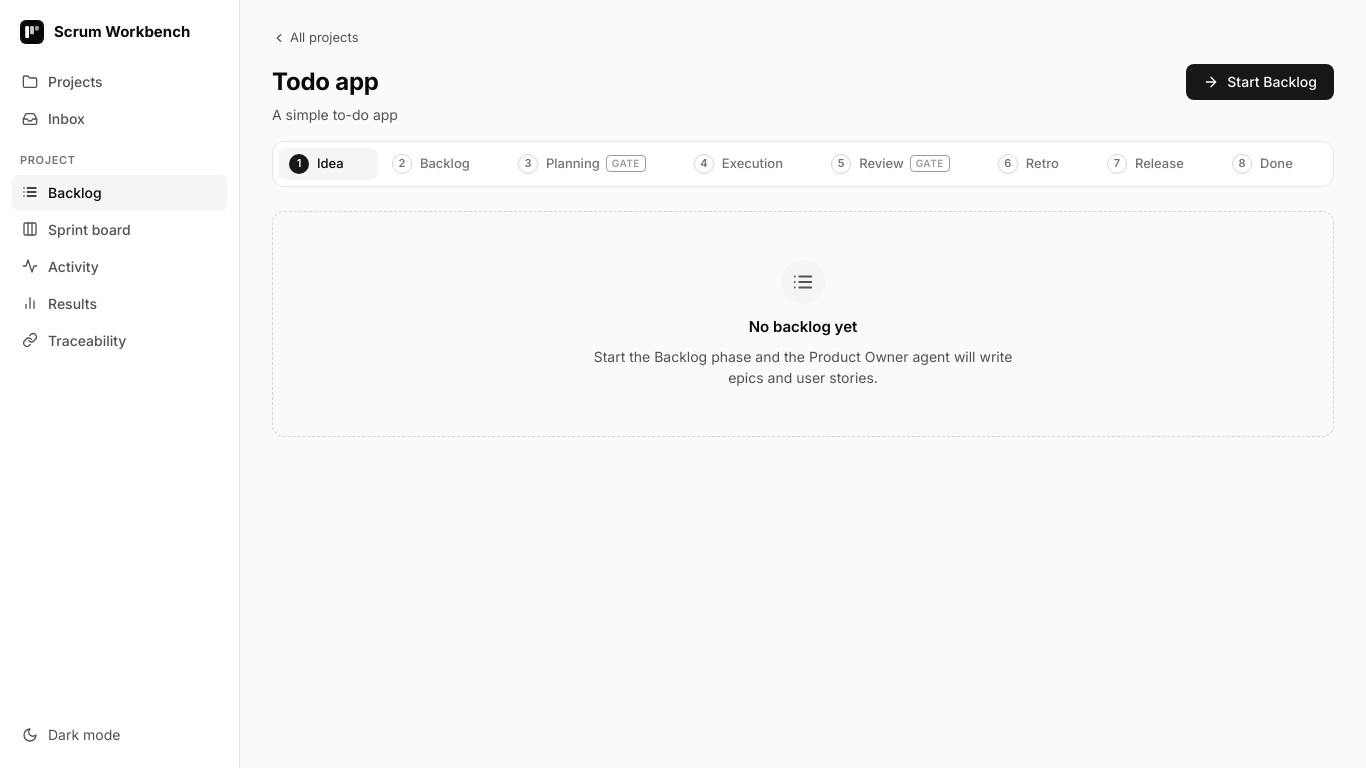
Test: phase controls › shows the server's reason when a step is refused
The width and height of the screenshot is (1366, 768).
Click the button "Start Backlog": (1260,82) x1=1186 y1=64 x2=1334 y2=100
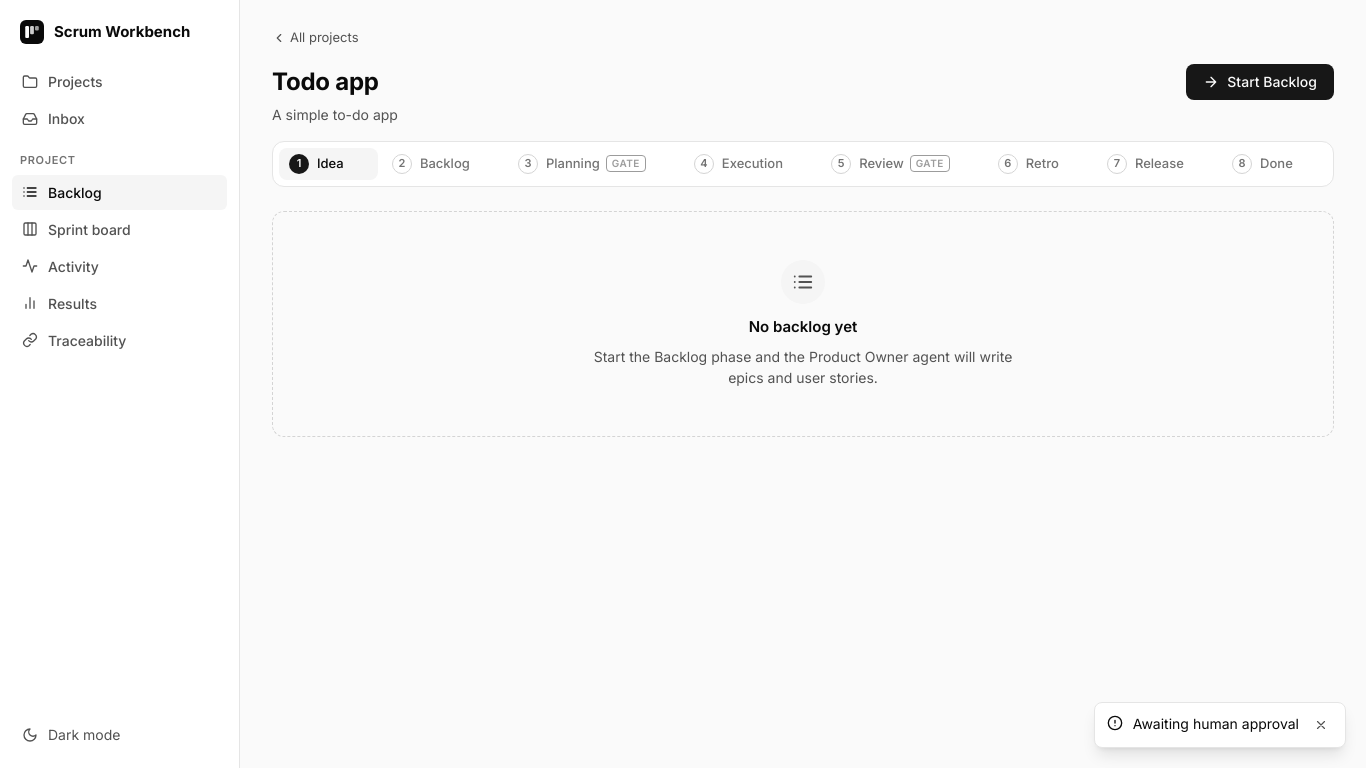
expect the message reads "Awaiting human approval": met, box x1=1133 y1=715 x2=1299 y2=732
